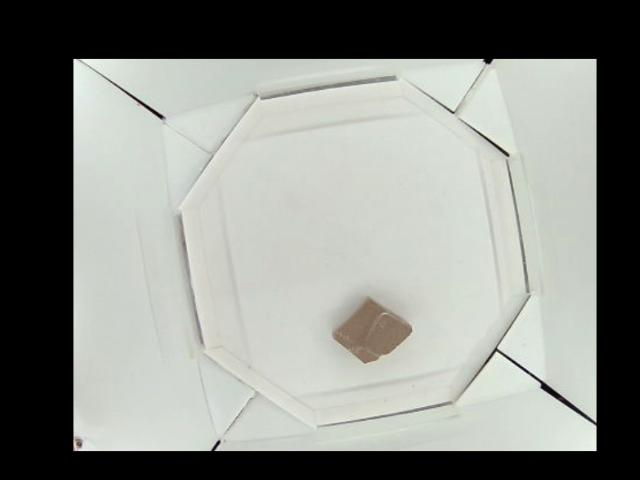China: (330, 299, 414, 362)
